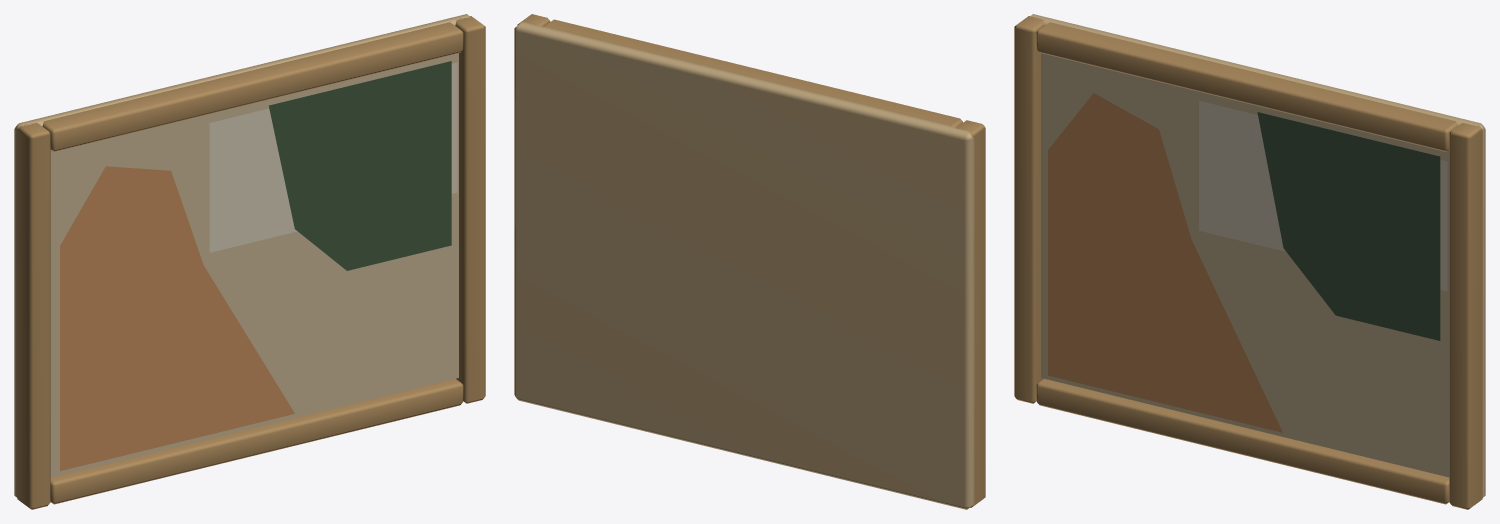
Rendered from abstract_frame_02.glb.
3 renders of one model, left to right at view 1: azimuth 30°, elevation 25°; view 2: azimuth 150°, elevation 25°; view 3: azimuth 330°, elevation 25°, orthographic.
Parts seen in each view (by area): view 1: Body; view 2: Body; view 3: Body.
Part boxes in pixels (box(x1,y1,x2,y2)): Body: box(14, 14, 485, 509); Body: box(514, 14, 985, 509); Body: box(1014, 14, 1485, 509).
Size of the model in its own units: 0.7 by 0.55 by 0.05.
